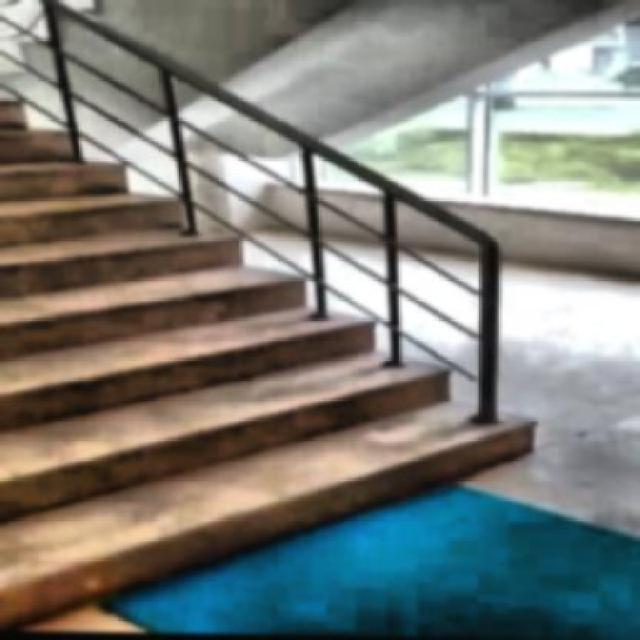stair: (1, 70, 584, 638)
